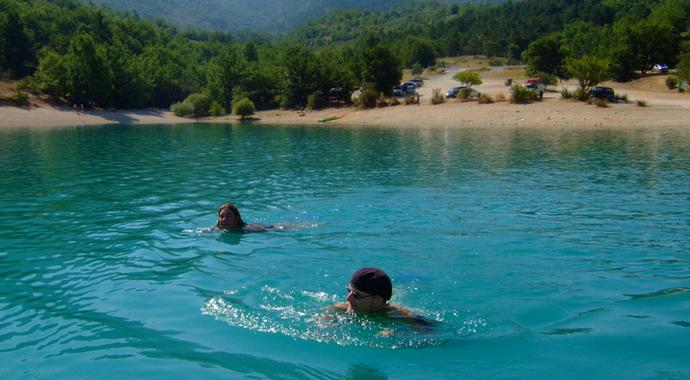swimmer: (318, 265, 438, 327), (209, 199, 283, 236)
